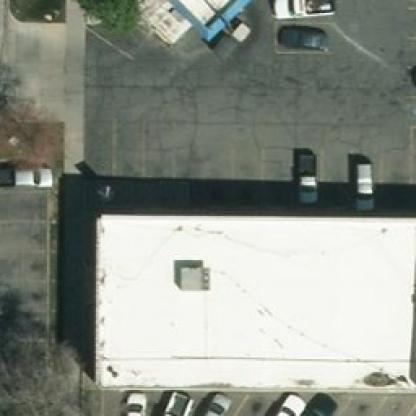car: (276, 22, 332, 56), (351, 161, 379, 211), (0, 166, 52, 188), (296, 148, 316, 205), (274, 0, 332, 18), (270, 390, 308, 411), (202, 388, 229, 414), (162, 390, 192, 413), (122, 386, 146, 414)
